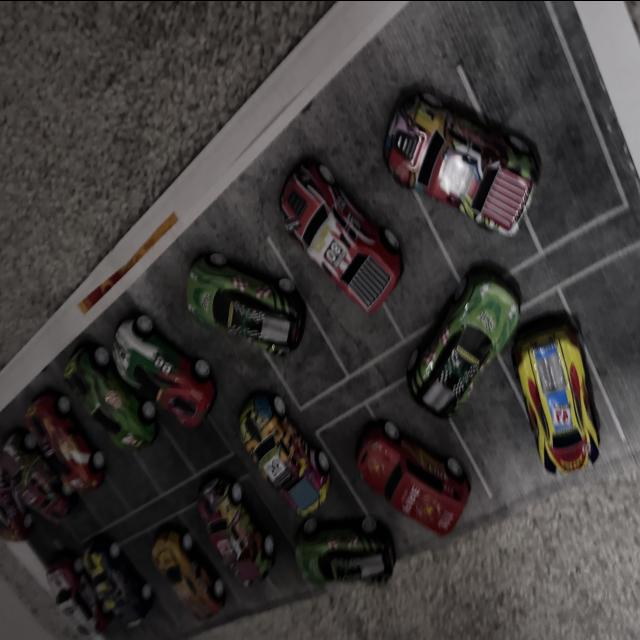car: (462, 282, 628, 510), (392, 36, 564, 237), (342, 386, 484, 562), (255, 145, 398, 311), (405, 266, 525, 421), (70, 313, 214, 423), (178, 252, 304, 361), (188, 478, 278, 630), (276, 496, 392, 598), (146, 498, 235, 630), (402, 332, 486, 452), (218, 403, 316, 501), (74, 518, 142, 634), (46, 332, 130, 420), (0, 419, 70, 516), (28, 387, 84, 469), (60, 590, 116, 640)
